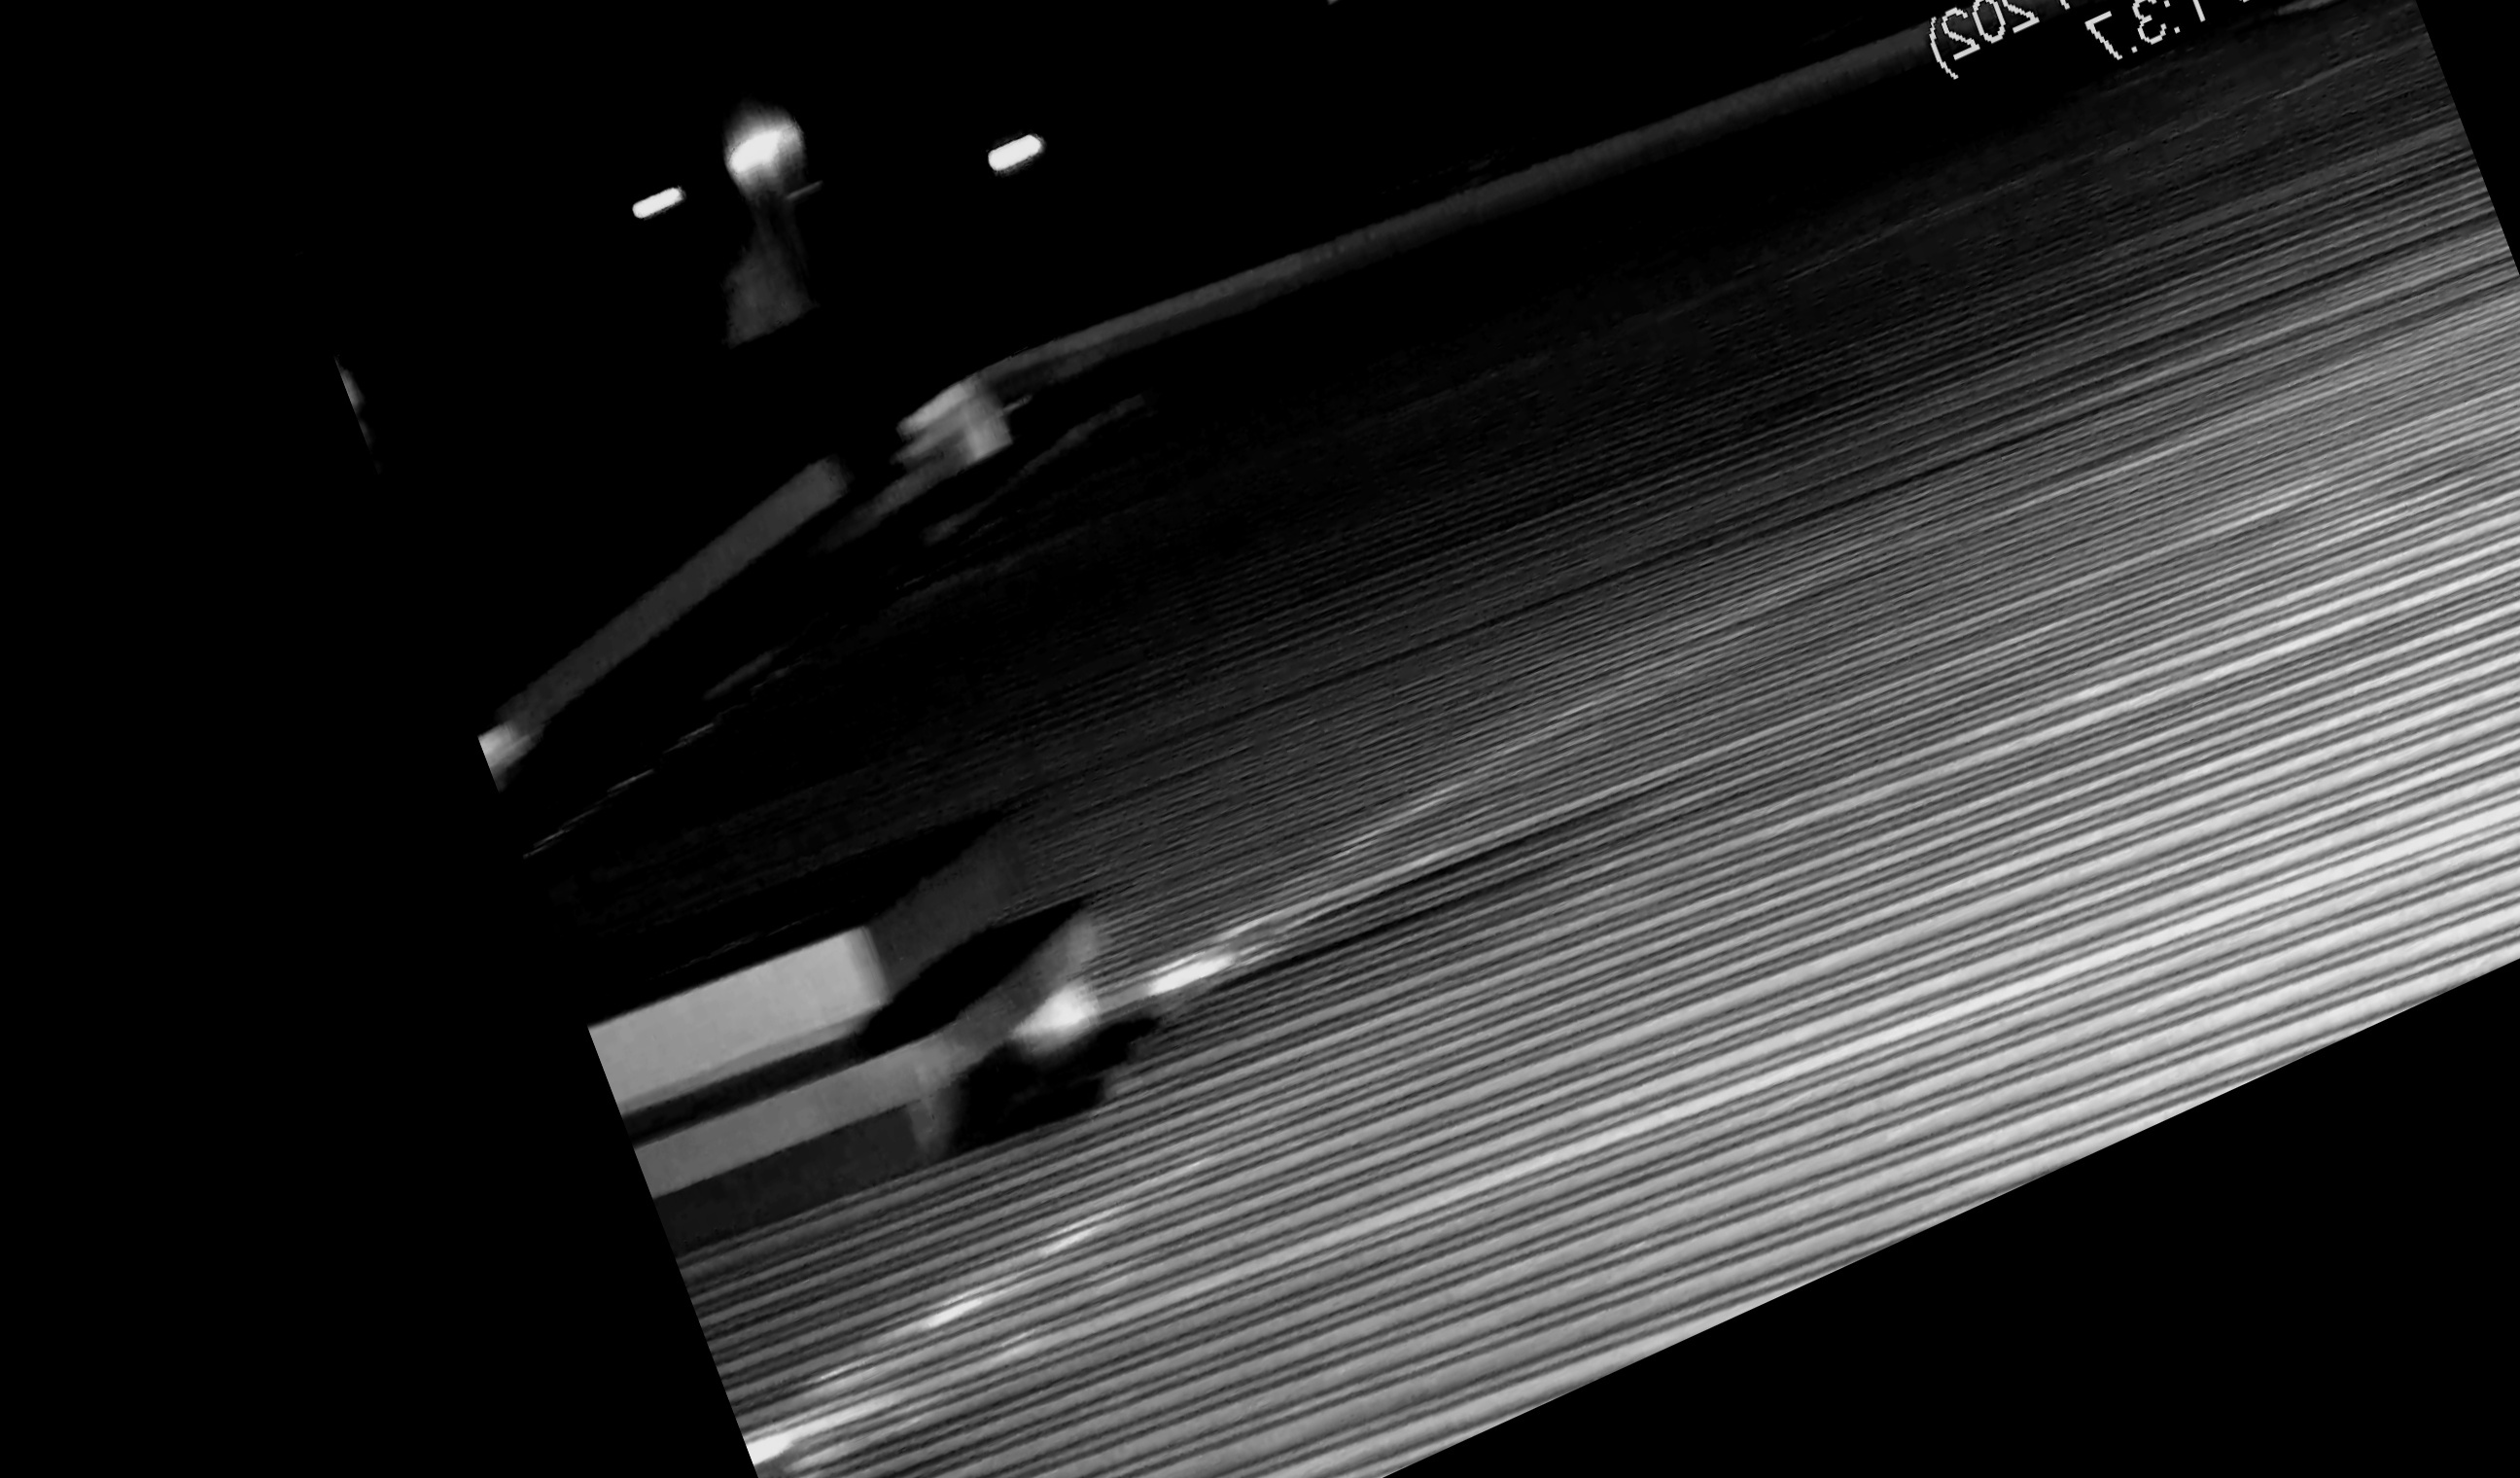Other: (814, 841, 1226, 1188)
